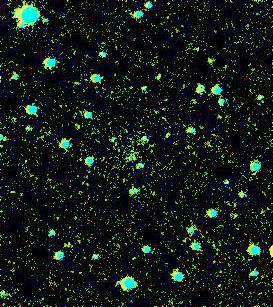star: (193, 49, 223, 79)
